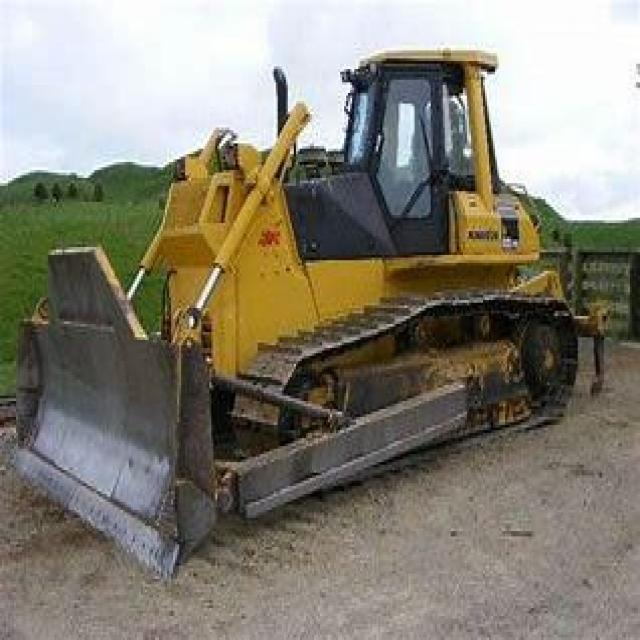Bulldozer: (14, 16, 612, 584)
